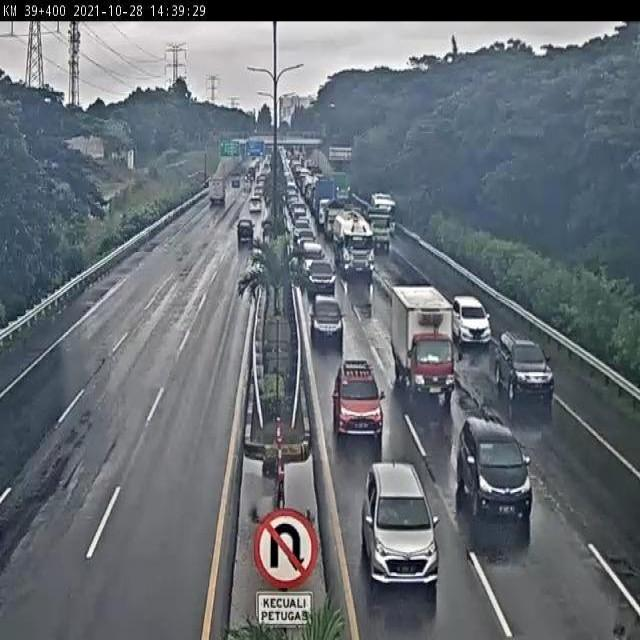big truck: (332, 209, 374, 275)
car: (359, 458, 442, 598), (453, 418, 536, 530), (492, 328, 556, 408), (326, 359, 386, 436), (451, 289, 495, 351), (309, 284, 346, 349), (301, 252, 337, 297), (236, 219, 254, 244)
small truck: (384, 277, 463, 407), (365, 200, 394, 253), (206, 178, 226, 205)
